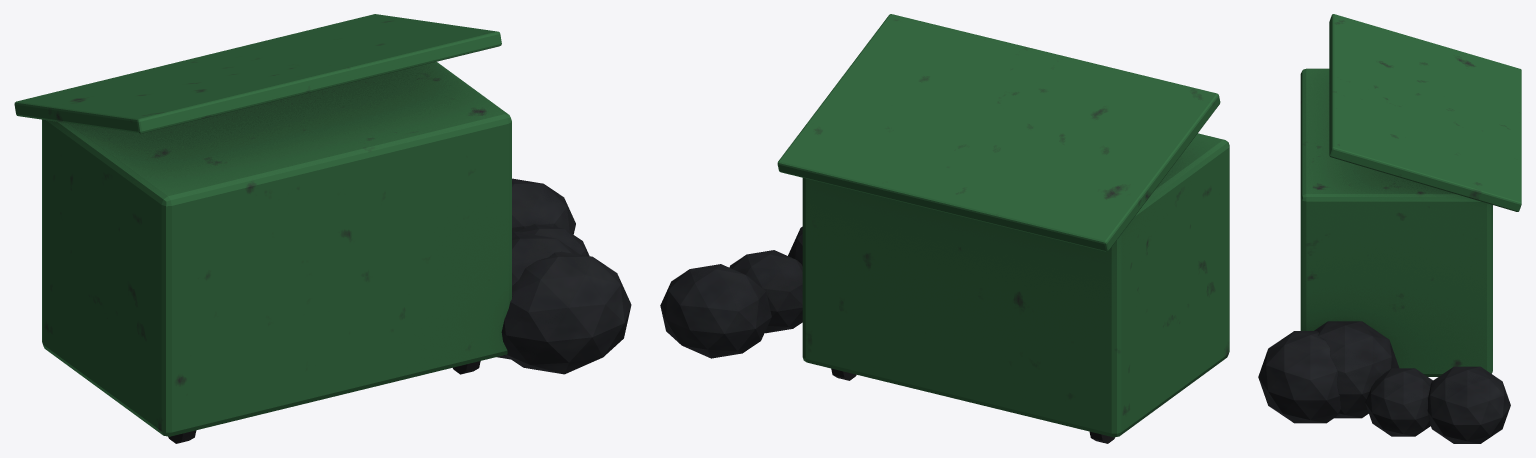
The model's file is city_bin.glb.
3 renders of one model, left to right at view 1: azimuth 30°, elevation 25°; view 2: azimuth 150°, elevation 25°; view 3: azimuth 270°, elevation 25°, orthographic. The views are drawn at different scales.
Parts seen in each view (by area): view 1: city_bin; view 2: city_bin; view 3: city_bin.
Part boxes in pixels (box(x1,y1,x2,y2)): city_bin: box(14, 14, 631, 443); city_bin: box(660, 14, 1229, 443); city_bin: box(1258, 14, 1521, 443).
Bounding box in the file's own units: 2.37 × 1.47 × 1.37.
3 materials, 3 textured.
